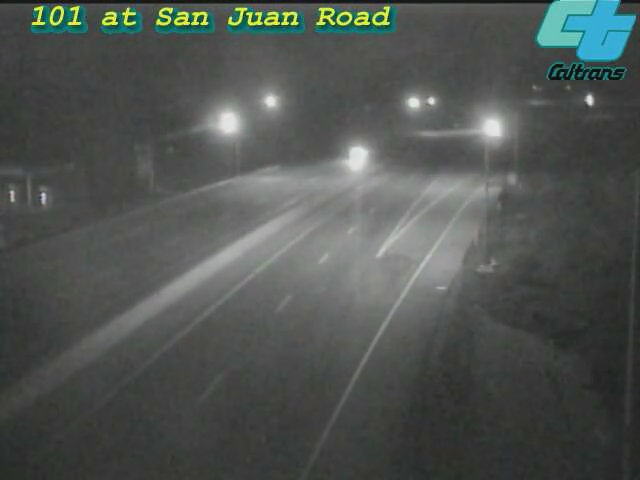vehicle: (331, 129, 381, 179), (461, 104, 511, 154)
